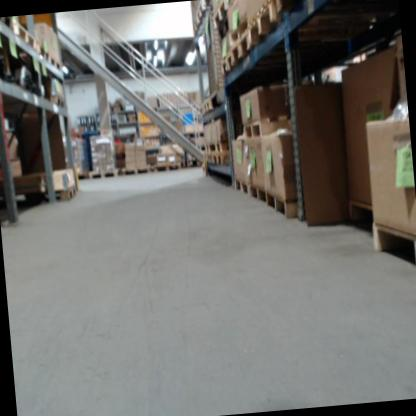pallet: (371, 219, 416, 273), (246, 0, 281, 49), (242, 113, 291, 140), (266, 190, 302, 220), (346, 200, 377, 231), (11, 22, 37, 53), (232, 30, 253, 68), (210, 0, 230, 29), (86, 167, 121, 180), (248, 183, 268, 204), (49, 187, 76, 202), (220, 50, 235, 75), (122, 165, 151, 177), (195, 0, 209, 24), (153, 162, 182, 173), (233, 178, 250, 196), (48, 53, 63, 73)
stillage: (199, 2, 231, 109)
